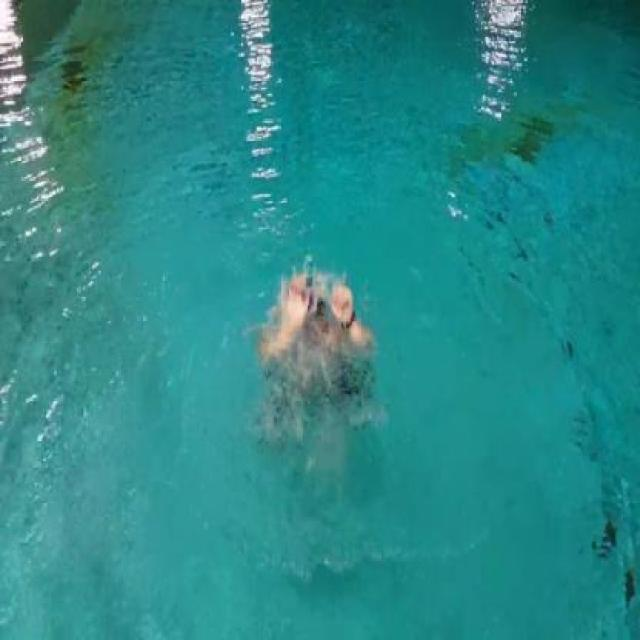Drowning: (251, 267, 381, 423)
